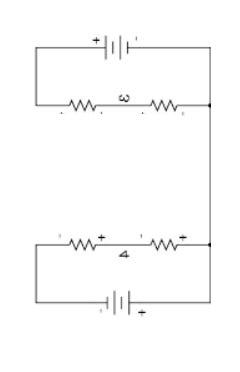resistor: (144, 87, 186, 122), (67, 89, 106, 123), (144, 231, 186, 261), (67, 230, 102, 255)
